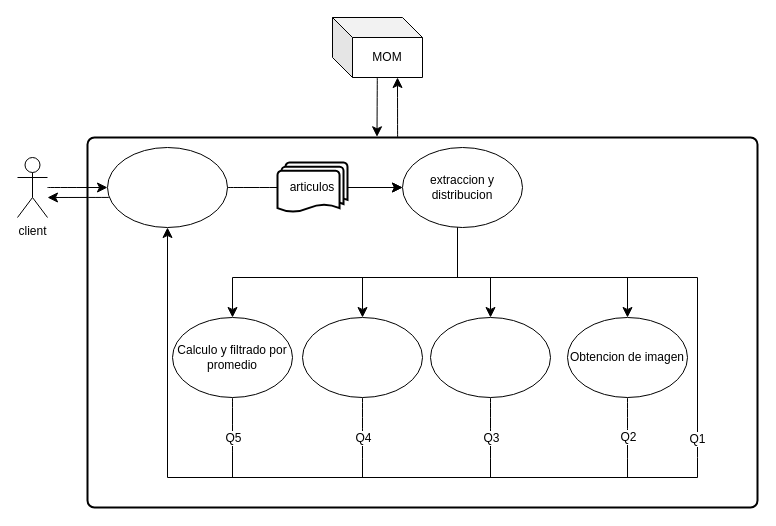
This 776x526 diagram has some shape labels left out. Each missing label, with the centre of its shape:
"Calculo de top 20 palabras repetidas" belongs at [362,357].
"Coincidencias de palabras" belongs at [490,357].
"Gateway" belongs at [167,187].
